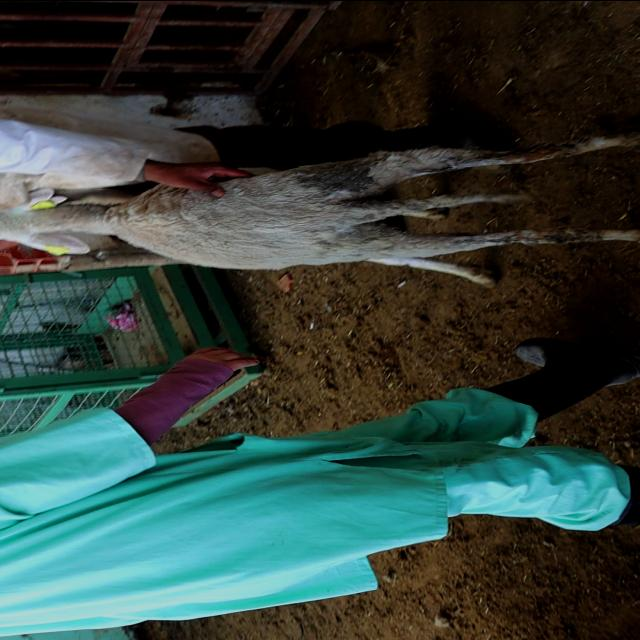Score_1: (0, 130, 639, 286)
